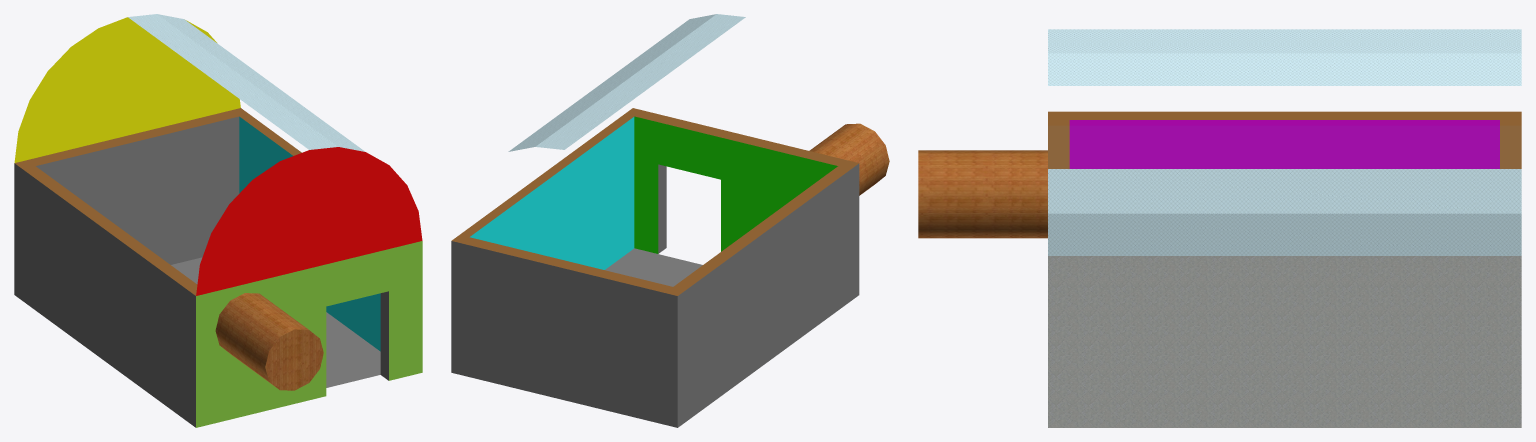
File: Louvre.gltf
The picture shows the model from 3 angles, left to right: view 1: azimuth 30°, elevation 25°; view 2: azimuth 150°, elevation 25°; view 3: azimuth 270°, elevation 25°; orthographic projection. The views are drawn at different scales.
Parts seen in each view (by area): view 1: root; view 2: root; view 3: root.
Boxes of the visible parts, bbox=[...] form: root: bbox=[14, 14, 422, 427]; root: bbox=[451, 14, 889, 427]; root: bbox=[918, 29, 1521, 427].
Bounding box in the file's own units: 3.22 × 3.4 × 5.7.
15 materials, 6 textured.
